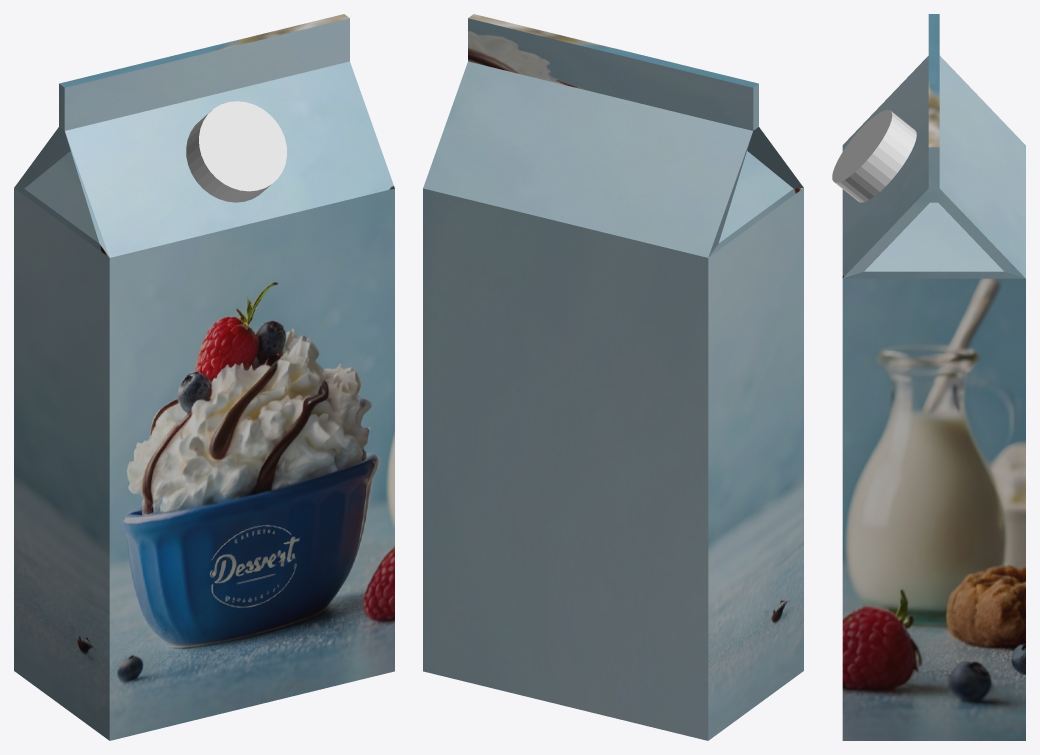
The model's file is Milk_Dessert.fbx.
The picture shows the model from 3 angles, left to right: view 1: azimuth 30°, elevation 25°; view 2: azimuth 150°, elevation 25°; view 3: azimuth 270°, elevation 25°; orthographic projection. The views are drawn at different scales.
Parts seen in each view (by area): view 1: Cube; view 2: Cube; view 3: Cube.
Part boxes in pixels (x1=…): Cube: x1=14, y1=14, x2=394, y2=740; Cube: x1=423, y1=14, x2=803, y2=740; Cube: x1=832, y1=14, x2=1025, y2=740.
Bounding box in the file's own units: 200 × 416 × 123.
2 materials, 1 textured.
